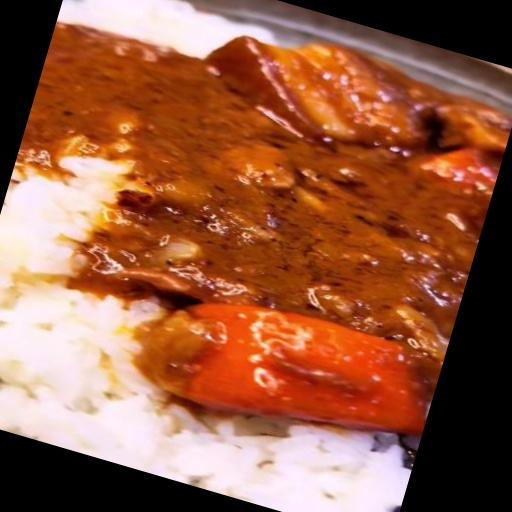pork caldereta: (58, 23, 511, 421)
